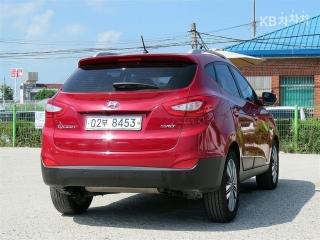0: (90, 118, 96, 127)
2: (96, 118, 102, 128)
3: (130, 118, 136, 128)
4: (118, 118, 124, 127)
5: (124, 118, 130, 128)
8: (112, 118, 118, 128)
plate: (84, 113, 146, 132)
부: (102, 118, 108, 127)
